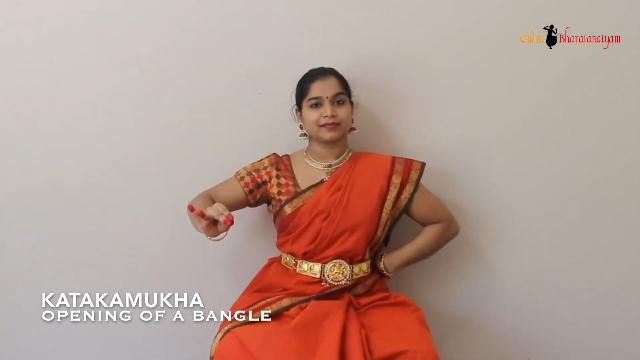katak: (167, 187, 275, 264)
